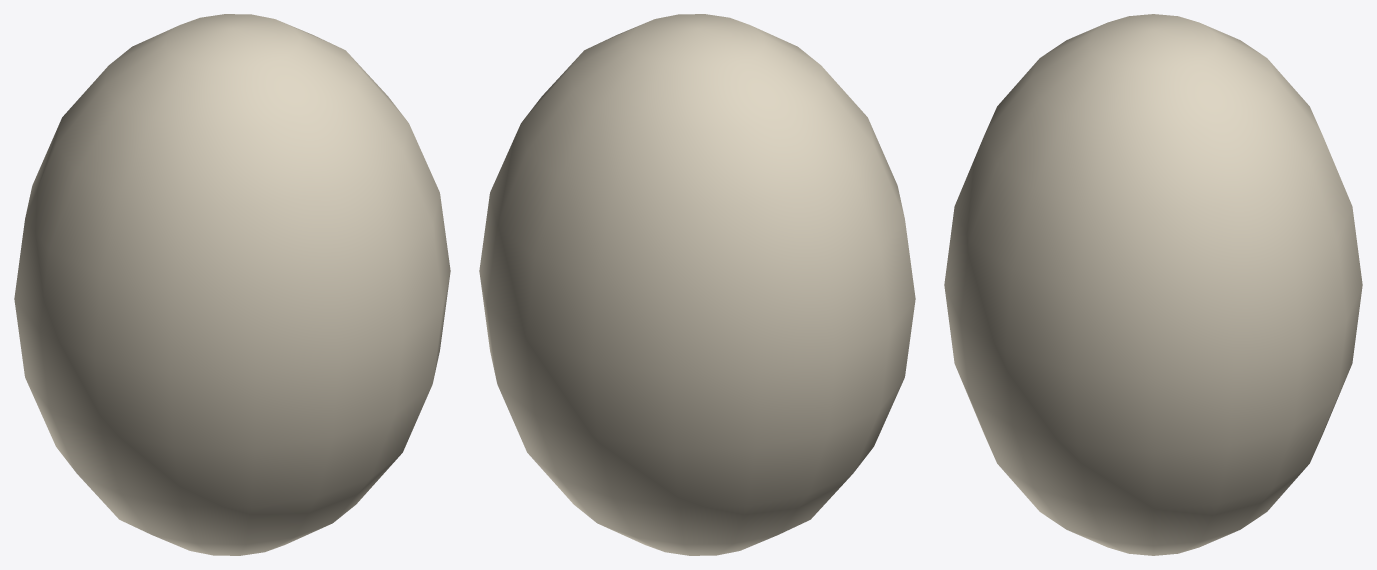
The model's file is word-egg.glb.
The picture shows the model from 3 angles, left to right: view 1: azimuth 30°, elevation 25°; view 2: azimuth 150°, elevation 25°; view 3: azimuth 270°, elevation 25°; orthographic projection.
Parts seen in each view (by area): view 1: egg; view 2: egg; view 3: egg.
Part boxes in pixels (x1=…): egg: x1=14, y1=14, x2=450, y2=555; egg: x1=479, y1=14, x2=915, y2=555; egg: x1=944, y1=14, x2=1362, y2=555.
Size of the model in its own units: 0.74 by 0.94 by 0.7.
